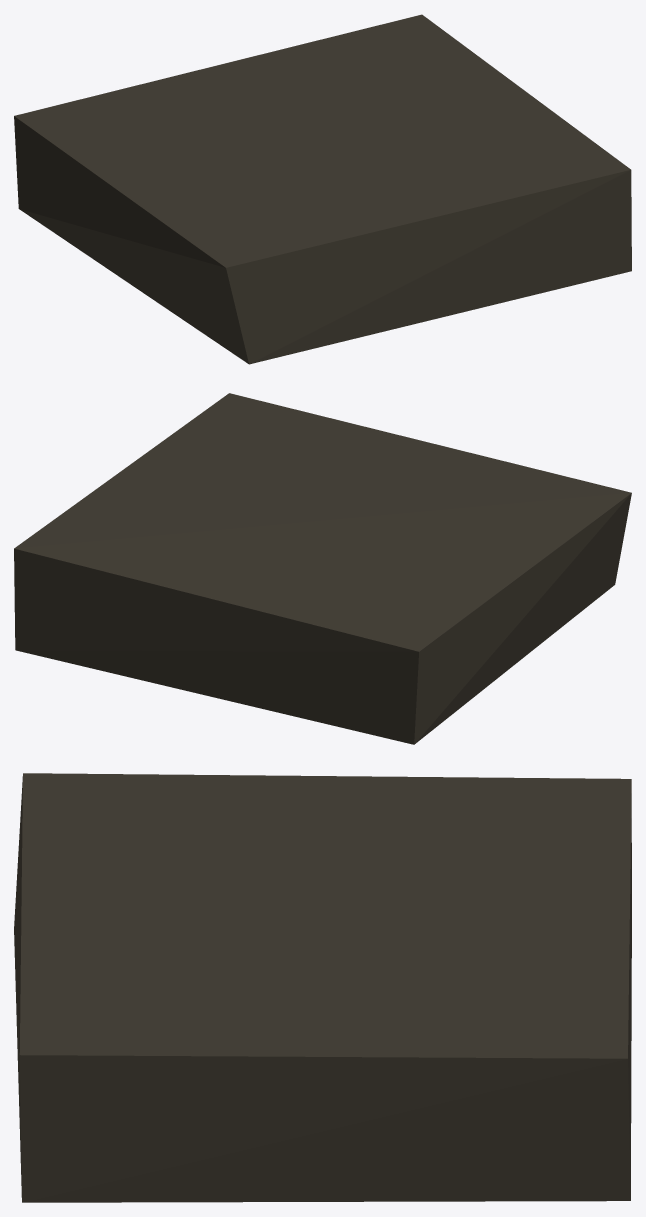
Rendered from Brick_Single_9_LOD.fbx.
3 renders of one model, top to bottom at view 1: azimuth 30°, elevation 25°; view 2: azimuth 150°, elevation 25°; view 3: azimuth 270°, elevation 25°, orthographic. The views are drawn at different scales.
Visible parts, largest first — view 1: Group51946; view 2: Group51946; view 3: Group51946.
Boxes of the visible parts, x1=… form: Group51946: x1=14, y1=14, x2=631, y2=364; Group51946: x1=14, y1=393, x2=631, y2=744; Group51946: x1=14, y1=773, x2=631, y2=1202.
Size of the model in its own units: 1.73 by 0.4159 by 1.59.
